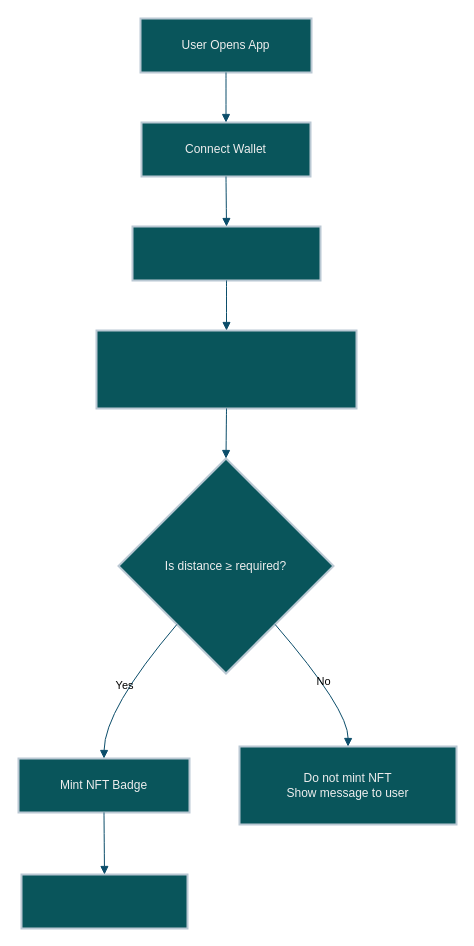
The diagram is 474 pixels wide and 946 high, and some of its shapes have lost their labels. Here are the shapes that lost their labels. From the top down, the box of each, then its label:
(131, 225, 321, 281): See Today’s Quest
(95, 329, 357, 409): Press “Claim Walk” → Input distance walked
(20, 873, 188, 929): Show in Wallet
